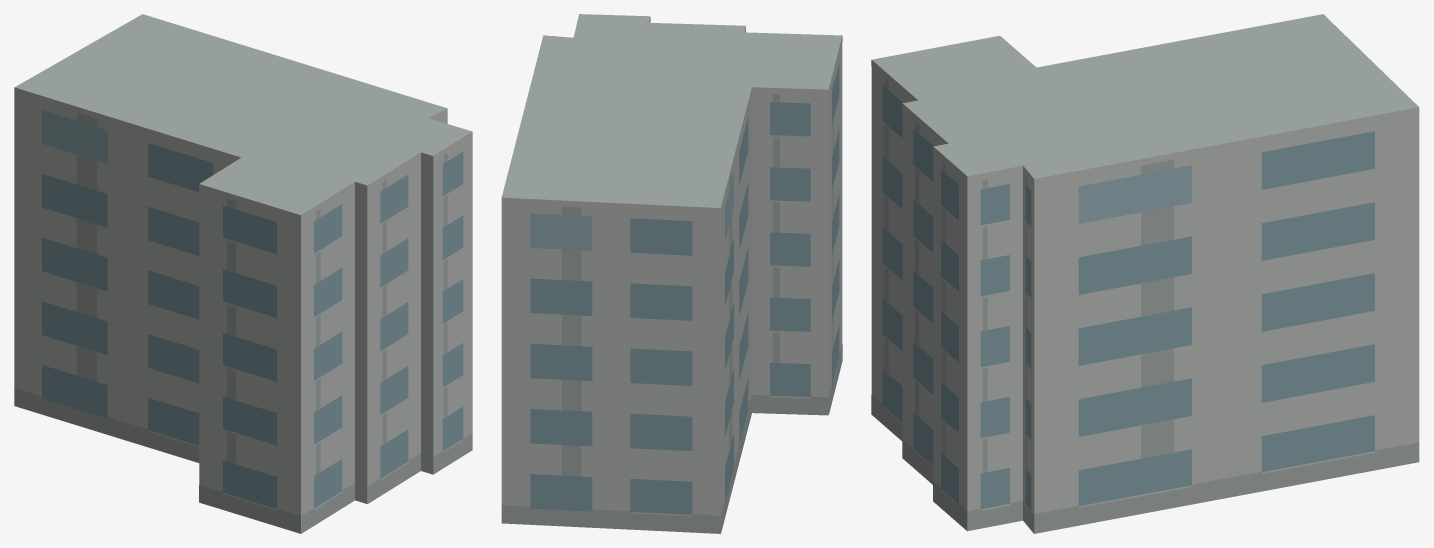
The model's file is survey-upis-32536475.glb.
The picture shows the model from 3 angles, left to right: view 1: azimuth 30°, elevation 25°; view 2: azimuth 150°, elevation 25°; view 3: azimuth 270°, elevation 25°; orthographic projection. The views are drawn at different scales.
Parts seen in each view (by area): view 1: survey-upis-32536475.tmp; view 2: survey-upis-32536475.tmp; view 3: survey-upis-32536475.tmp.
Boxes of the visible parts, left/top/right/bottom form: survey-upis-32536475.tmp: left=14, top=14, right=472, bottom=533; survey-upis-32536475.tmp: left=501, top=14, right=842, bottom=533; survey-upis-32536475.tmp: left=871, top=14, right=1419, bottom=533.
Bounding box in the file's own units: 12.97 × 13 × 18.19.
